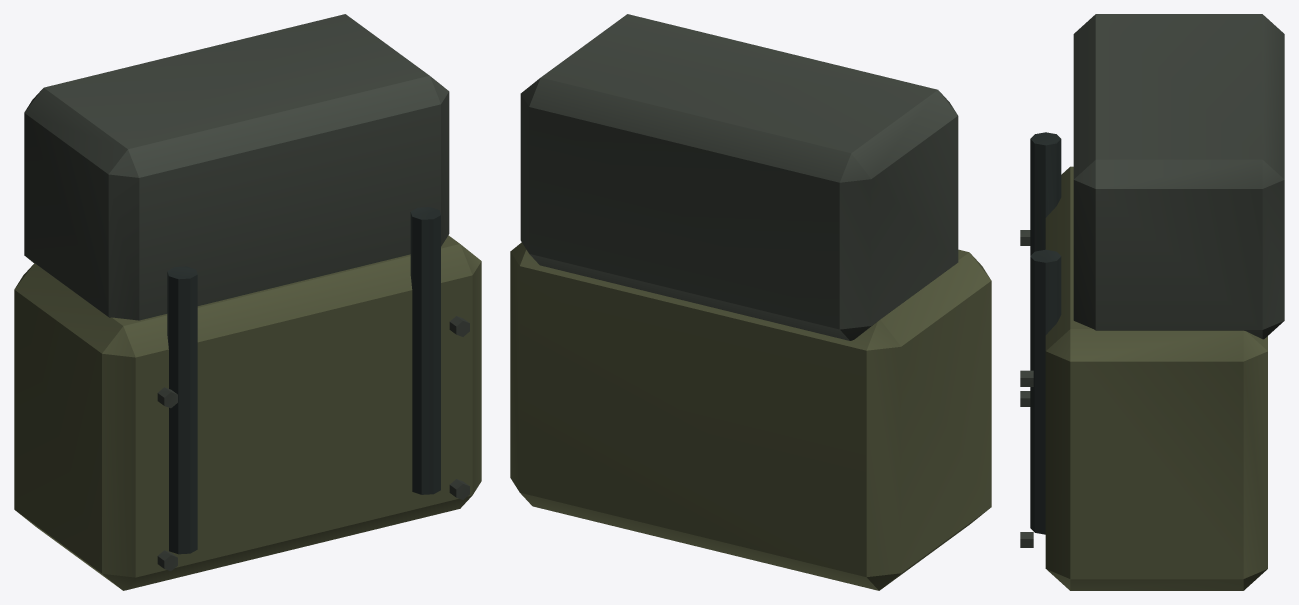
Rendered from power.glb.
3 renders of one model, left to right at view 1: azimuth 30°, elevation 25°; view 2: azimuth 150°, elevation 25°; view 3: azimuth 270°, elevation 25°, orthographic. The views are drawn at different scales.
Parts seen in each view (by area): view 1: HT12_Armoured_battery, HT12_Turbine_casing, Fuel_hose.001, Fuel_hose; view 2: HT12_Armoured_battery, HT12_Turbine_casing; view 3: HT12_Turbine_casing, HT12_Armoured_battery, Fuel_hose.001, Fuel_hose.
Boxes of the visible parts, x1,y1,x2,y2 form: HT12_Armoured_battery: (14,235,481,590); HT12_Turbine_casing: (24,14,449,320); Fuel_hose.001: (410,207,440,494); Fuel_hose: (167,266,197,554); HT12_Armoured_battery: (510,242,991,590); HT12_Turbine_casing: (520,14,958,340); HT12_Turbine_casing: (1073,14,1284,339); HT12_Armoured_battery: (1045,166,1267,590); Fuel_hose.001: (1030,249,1061,534); Fuel_hose: (1030,132,1061,255).
Bounding box in the file's own units: 0.39 × 0.42 × 0.238.
